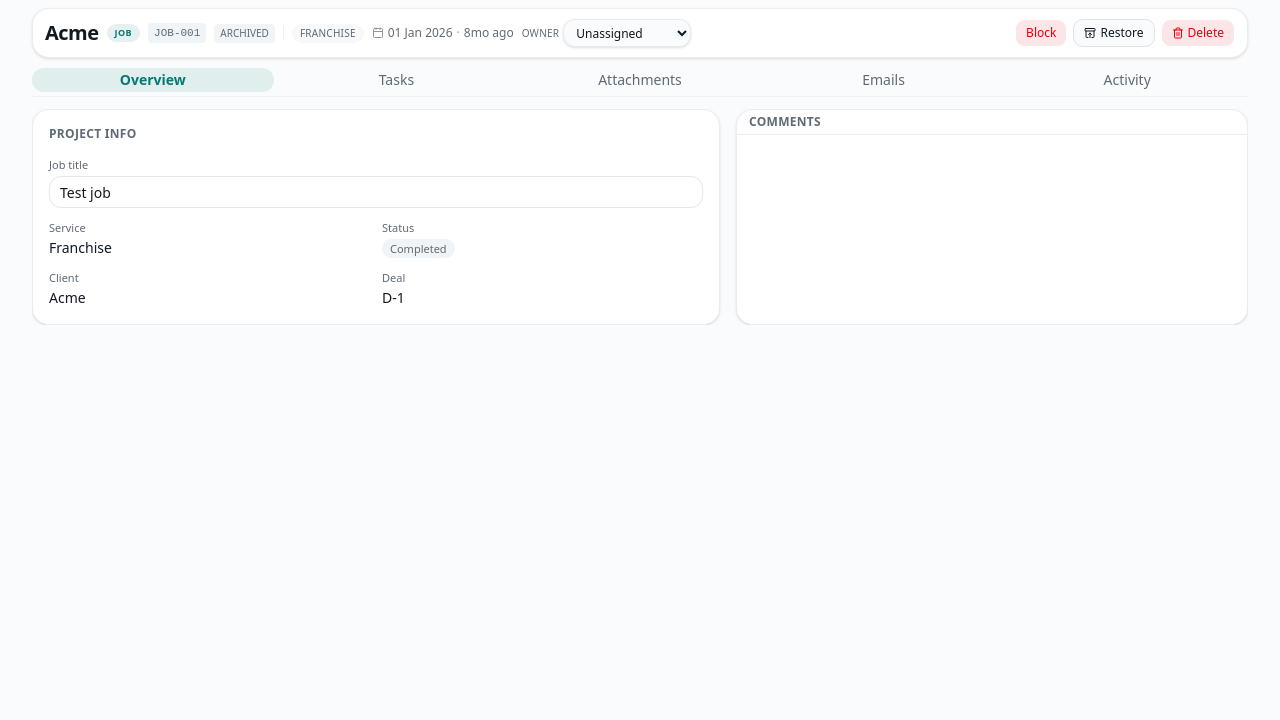
Test: JobDetailPage — restore from archive › closes the dialog on a successful restore
Step 1. Click the button "Restore" → click(1114, 33), box [1073, 19, 1154, 47]
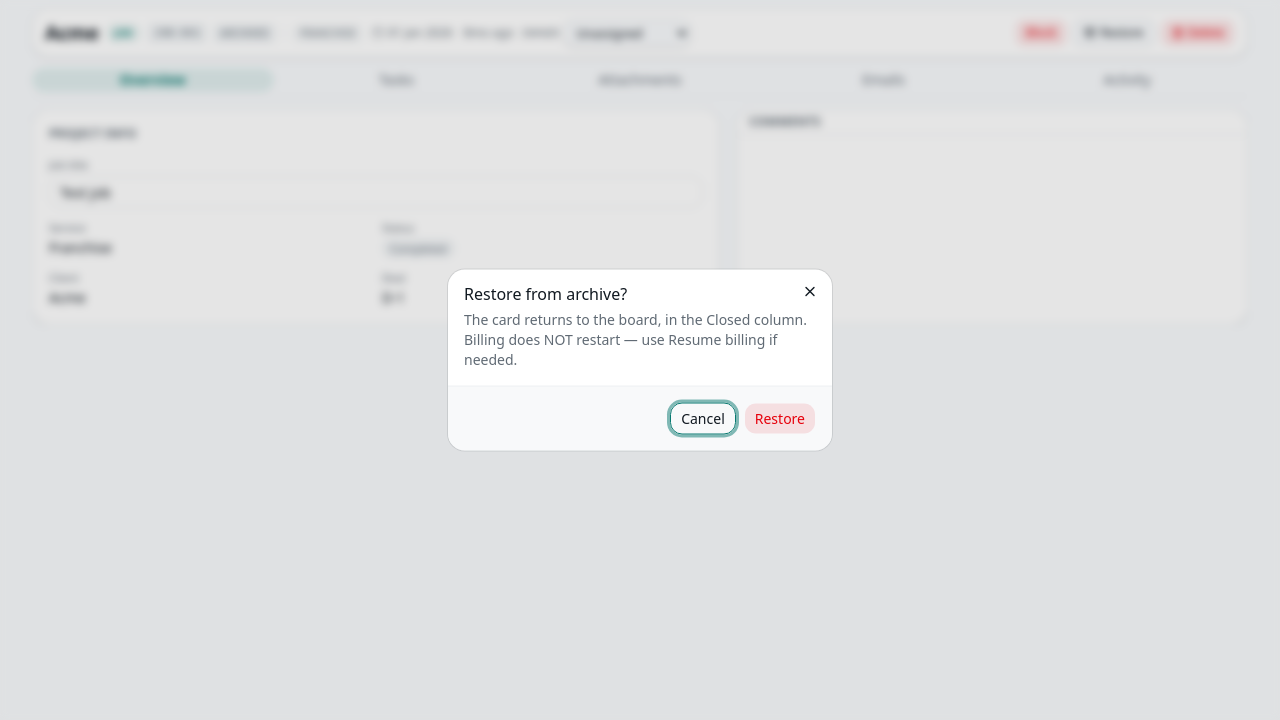
Check: the heading "Restore from archive?" is shown, box [464, 282, 627, 304]
Step 2. Click the button "Restore" → click(780, 418), box [744, 402, 816, 434]
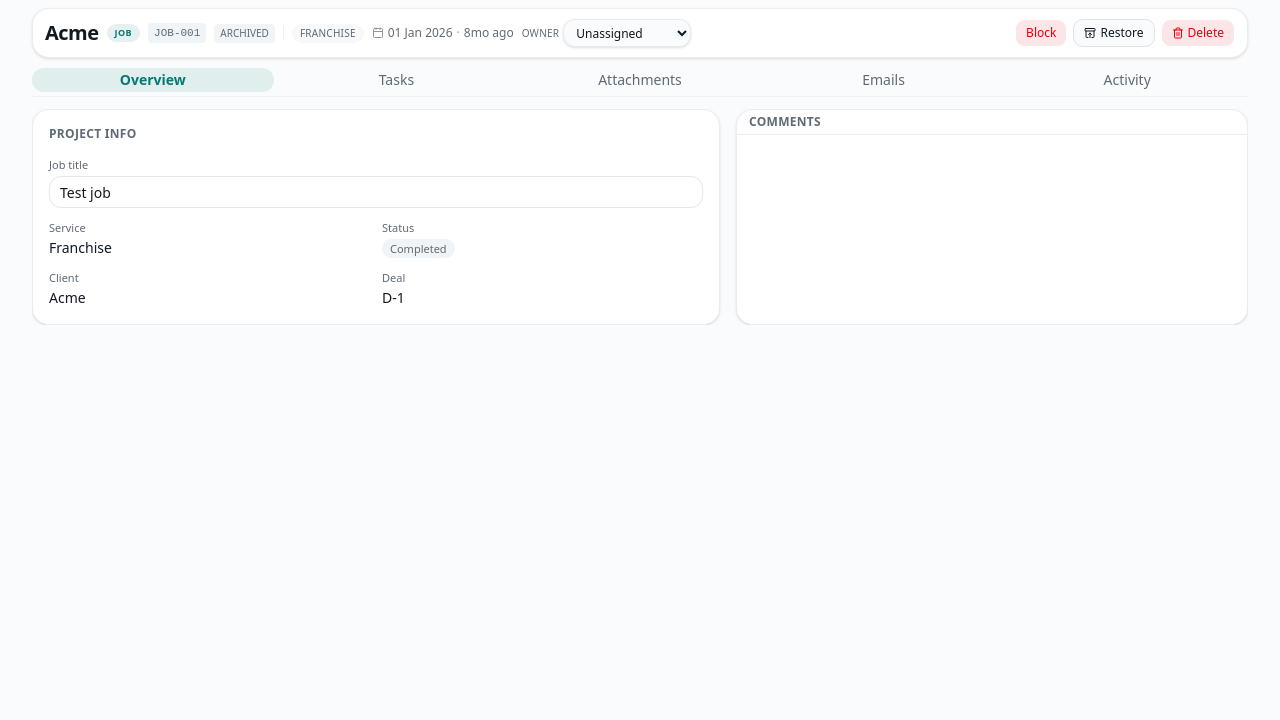
Check: the heading "Restore from archive?" is gone
